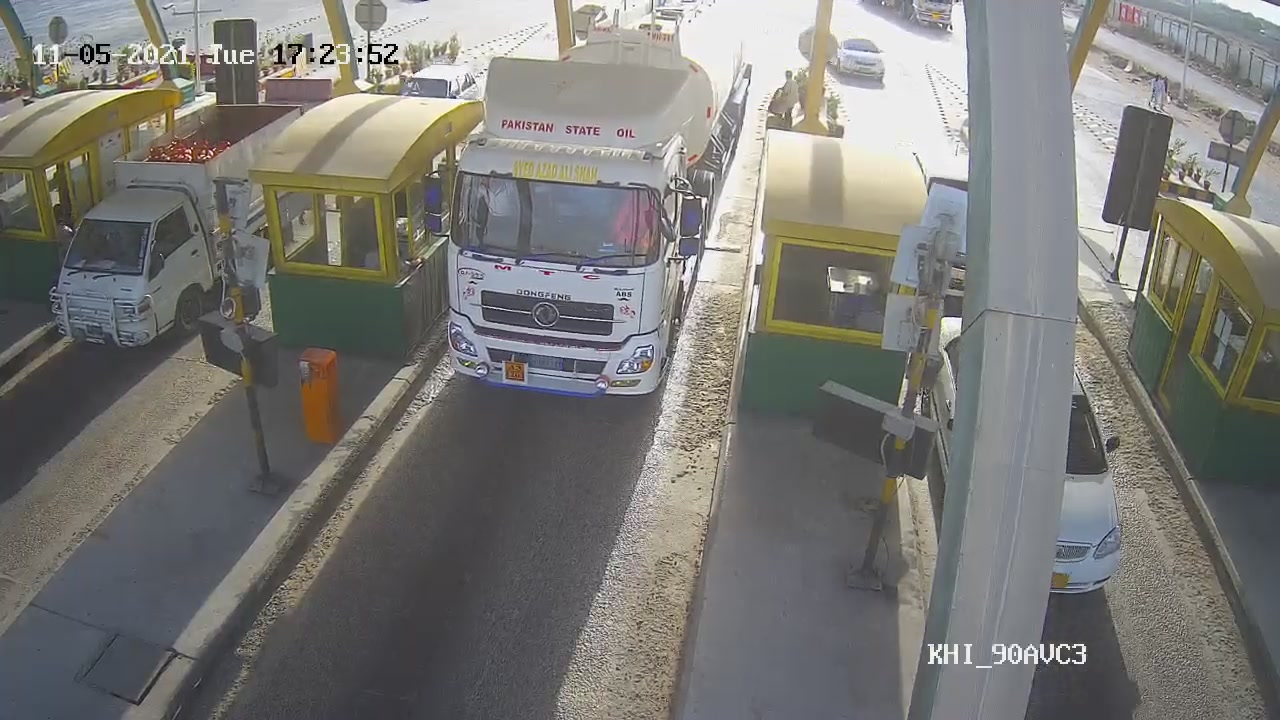F6: (433, 1, 753, 403)
